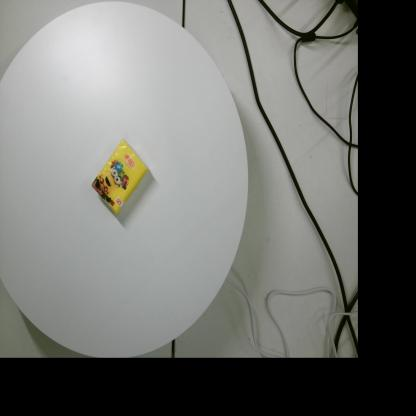Tissue: (91, 139, 148, 215)
